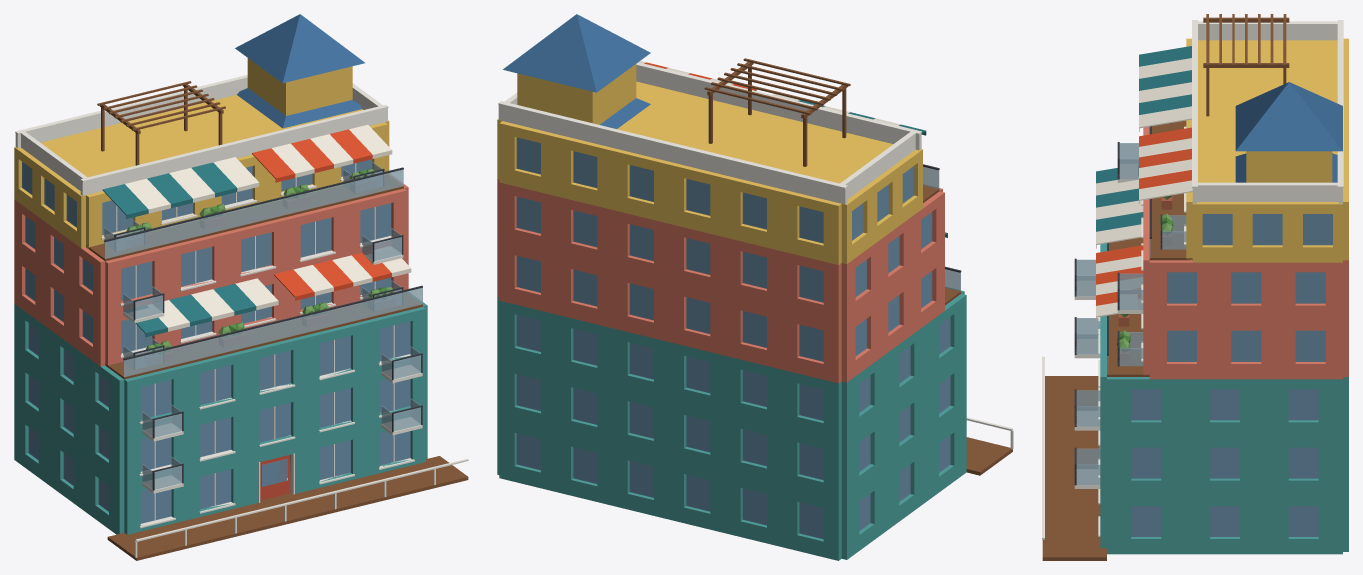
File: BUILDING_17.obj
The picture shows the model from 3 angles, left to right: view 1: azimuth 30°, elevation 25°; view 2: azimuth 150°, elevation 25°; view 3: azimuth 270°, elevation 25°; orthographic projection. The views are drawn at different scales.
Visible parts, largest first — view 1: walls_floor02, awnings, walls_floor04, walls_floor01, walls_floor00, roof, boardwalk, tier_5, balconies, walls_floor05, terrace_3, terrace_5 (+13 smaller); view 2: walls_floor02, walls_floor04, walls_floor01, walls_floor05, walls_floor00, walls_floor03, roof, tier_5, tower_roof, windows_floor05, windows_floor00, windows_floor03 (+7 smaller); view 3: walls_floor02, awnings, walls_floor04, walls_floor01, tier_5, walls_floor00, boardwalk, walls_floor05, balconies, walls_floor03, roof, tower_roof (+12 smaller).
Boxes of the visible parts, box(x1,y1,x2,y2) form: walls_floor02: box(14, 292, 427, 442); awnings: box(102, 124, 411, 337); walls_floor04: box(14, 174, 408, 323); walls_floor01: box(14, 364, 427, 494); walls_floor00: box(14, 416, 427, 534); roof: box(15, 75, 388, 195); boardwalk: box(107, 456, 468, 560); tier_5: box(40, 95, 362, 177); balconies: box(104, 162, 422, 493); walls_floor05: box(14, 120, 389, 248); terrace_3: box(105, 285, 422, 379); terrace_5: box(86, 167, 403, 261); walls_floor02: box(497, 287, 966, 452); walls_floor04: box(497, 179, 944, 333); walls_floor01: box(497, 364, 966, 511); walls_floor05: box(497, 119, 922, 264); walls_floor00: box(497, 423, 966, 560); walls_floor03: box(497, 248, 944, 383); roof: box(498, 62, 921, 204); tier_5: box(617, 81, 893, 183); tower_roof: box(503, 14, 650, 128); windows_floor05: box(516, 137, 914, 243); windows_floor00: box(516, 433, 950, 539); windows_floor03: box(516, 256, 932, 361); walls_floor02: box(1100, 243, 1348, 447); awnings: box(1096, 46, 1192, 321); walls_floor04: box(1143, 126, 1348, 330); walls_floor01: box(1100, 445, 1348, 505); tier_5: box(1198, 40, 1337, 182); walls_floor00: box(1100, 503, 1348, 554); boardwalk: box(1042, 376, 1106, 560); walls_floor05: box(1186, 38, 1348, 262); balconies: box(1074, 142, 1186, 488); walls_floor03: box(1143, 328, 1348, 379); roof: box(1192, 20, 1343, 203); tower_roof: box(1235, 82, 1342, 182).
Size of the model in its own units: 20.05 by 23 by 14.3.
